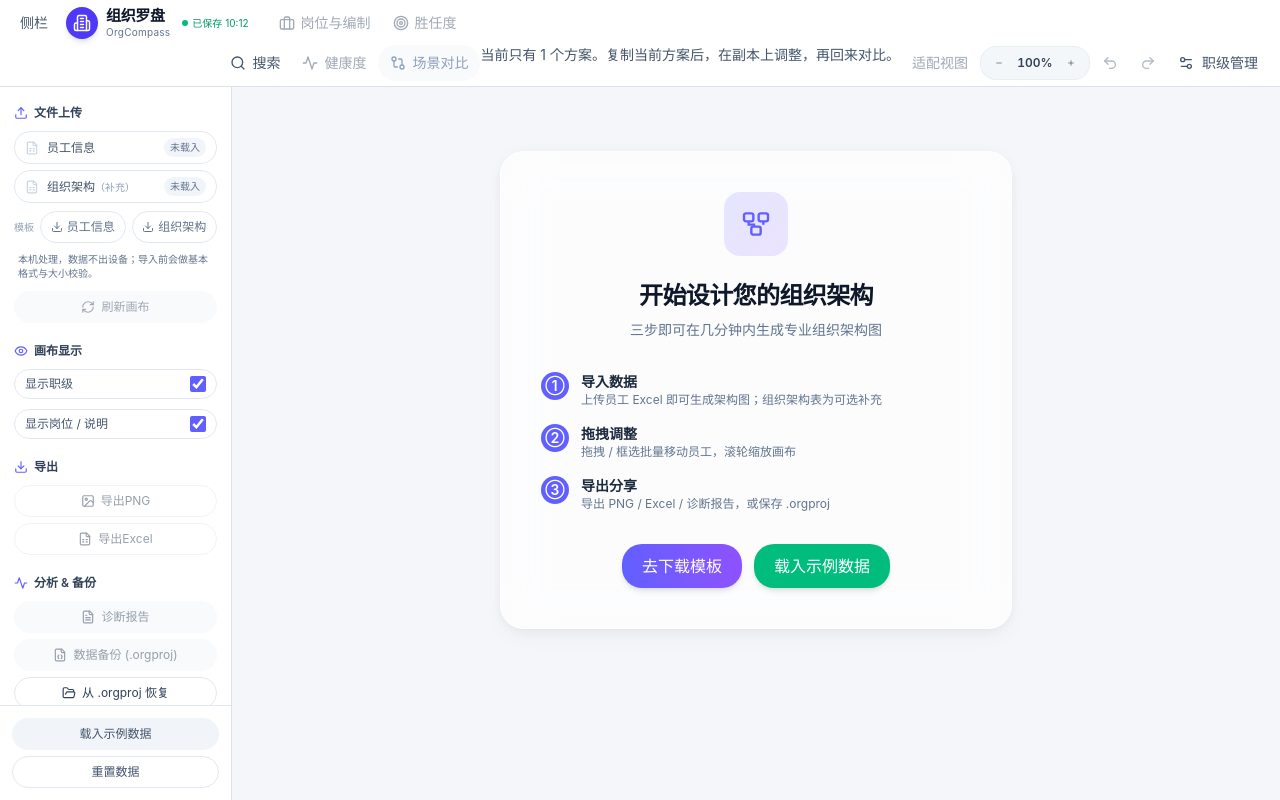
Test case: V2.4.0「载入示例数据」= 模板选择器（原「行业模板」并入此处） › 空状态引导里同样只剩「载入示例数据」（原「载入示例模板」已并入，且它也开同一个选择器）
The image size is (1280, 800).
Click the button "载入示例数据" below "导出 PNG / Excel / 诊断报告，或保存 .orgproj" at (822, 566), box [754,544,890,588]
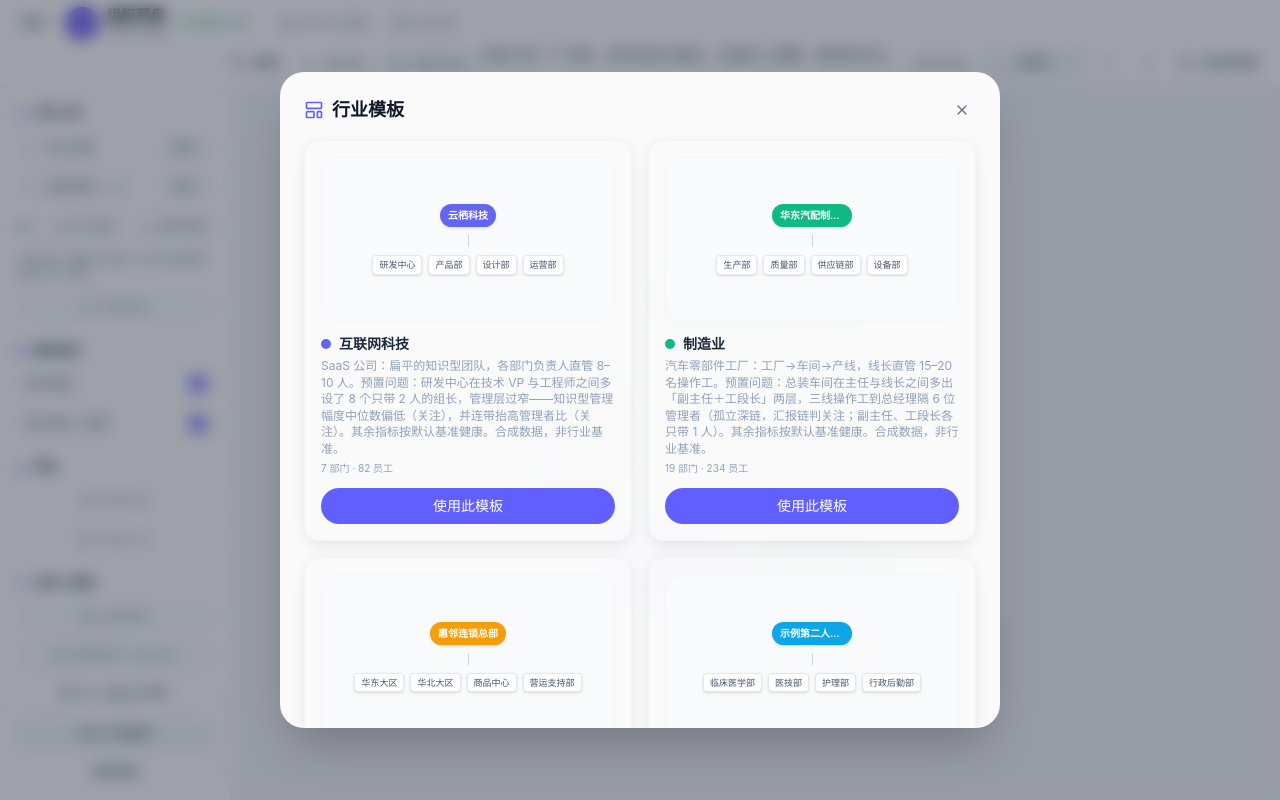
Expected: the dialog "行业模板" is shown
